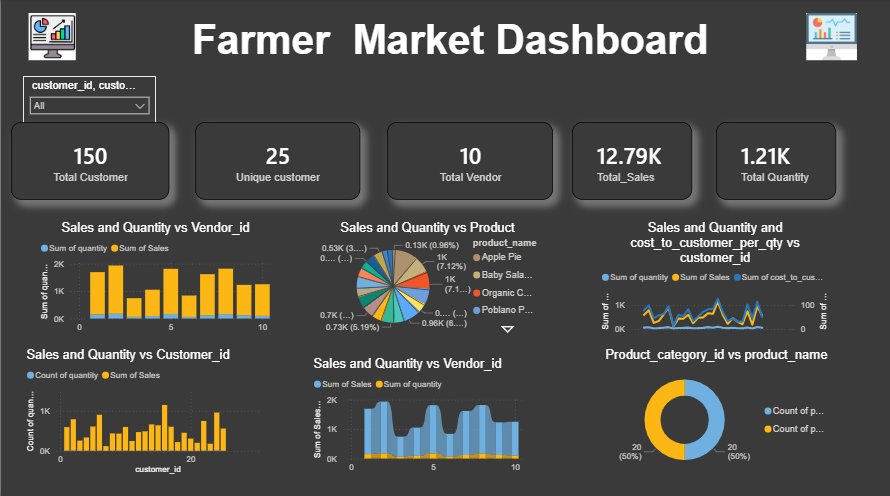

This screenshot's page, from the dashboard's own definition file:
{"tool":"powerbi","page":{"name":"Sales and quantity waise analysis","canvas":[1280,720],"ordinal":2},"visuals":[{"type":"columnChart","title":"Sales and  Quantity vs Customer_id","fields":{"Category":["customer_purchases.customer_id"],"Y":["CountNonNull(customer_purchases.quantity)","Sum(customer_purchases.Sales)"]},"box":[31.7,502.6,347,188.6],"z":0},{"type":"slicer","fields":{"Values":["customer_purchases.customer_id","customer_purchases.customer_id","customer_purchases.quantity"]},"box":[31.7,112.3,191.5,96.5],"z":1000},{"type":"cardVisual","fields":{"Data":["Sum(customer_purchases.quantity)"]},"box":[1029.6,178.6,172.8,112.3],"z":2000},{"type":"pieChart","title":"Sales and Quantity vs Product","fields":{"Category":["dirty_product.product_name"],"Y":["Sum(customer_purchases.quantity)","Sum(customer_purchases.Sales)"]},"box":[445,319.7,338.4,169.9],"z":3000},{"type":"ribbonChart","title":"Sales and Quantity vs Vendor_id","fields":{"Category":["customer_purchases.vendor_id"],"Y":["Sum(customer_purchases.Sales)","Sum(customer_purchases.quantity)"]},"box":[445,515.5,311,175.7],"z":4000},{"type":"columnChart","title":"Sales and Quantity vs Vendor_id","fields":{"Category":["dirty_vendor.vendor_id"],"Y":["Sum(customer_purchases.quantity)","Sum(customer_purchases.Sales)"]},"box":[51.8,319.7,341.3,169.9],"z":5000},{"type":"donutChart","title":" Product_category_id vs product_name","fields":{"Y":["CountNonNull(dirty_product.product_category_id)","CountNonNull(dirty_product.product_name)"]},"box":[865.4,502.6,337,188.6],"z":6000},{"type":"textbox","box":[128.2,21.6,1036.8,80.6],"z":7000},{"type":"image","box":[18.7,21.6,109.4,67.7],"z":8000},{"type":"image","box":[1150.6,21.6,90.7,67.7],"z":9000},{"type":"cardVisual","fields":{"Data":["Count(customer_purchases.vendor_id)"]},"box":[555.8,178.6,239,112.3],"z":10000},{"type":"cardVisual","fields":{"Data":["CountNonNull(customer_purchases.customer_id)"]},"box":[14.4,178.6,227.5,112.3],"z":11000},{"type":"lineChart","title":"Sales and Quantity and cost_to_customer_per_qty vs customer_id","fields":{"Category":["customer_purchases.customer_id"],"Y":["Sum(customer_purchases.quantity)","Sum(customer_purchases.Sales)"],"Y2":["Sum(customer_purchases.cost_to_customer_per_qty)"]},"box":[859.7,319.7,337,169.9],"z":12000},{"type":"cardVisual","fields":{"Data":["Count(customer_purchases.customer_id)"]},"box":[279.4,178.6,237.6,112.3],"z":13000},{"type":"cardVisual","fields":{"Data":["customer_purchases.Total_Sales"]},"box":[822.2,178.6,172.8,112.3],"z":13001}]}

Visuals, with their boxes in screenshot pixels (x1, y1, x2, y2), scaled from the page's 1280x720 canvas onto the 890x496 screenshot:
"Sales and  Quantity vs Customer_id" columnChart: <bbox>22, 346, 263, 476</bbox>
slicer - customer_purchases.customer_id x customer_purchases.customer_id: <bbox>22, 77, 155, 144</bbox>
cardVisual - Sum(customer_purchases.quantity): <bbox>716, 123, 836, 200</bbox>
"Sales and Quantity vs Product" pieChart: <bbox>309, 220, 545, 337</bbox>
"Sales and Quantity vs Vendor_id" ribbonChart: <bbox>309, 355, 526, 476</bbox>
"Sales and Quantity vs Vendor_id" columnChart: <bbox>36, 220, 273, 337</bbox>
" Product_category_id vs product_name" donutChart: <bbox>602, 346, 836, 476</bbox>
textbox: <bbox>89, 15, 810, 70</bbox>
image: <bbox>13, 15, 89, 62</bbox>
image: <bbox>800, 15, 863, 62</bbox>
cardVisual - Count(customer_purchases.vendor_id): <bbox>386, 123, 553, 200</bbox>
cardVisual - CountNonNull(customer_purchases.customer_id): <bbox>10, 123, 168, 200</bbox>
"Sales and Quantity and cost_to_customer_per_qty vs customer_id" lineChart: <bbox>598, 220, 832, 337</bbox>
cardVisual - Count(customer_purchases.customer_id): <bbox>194, 123, 359, 200</bbox>
cardVisual - customer_purchases.Total_Sales: <bbox>572, 123, 692, 200</bbox>
